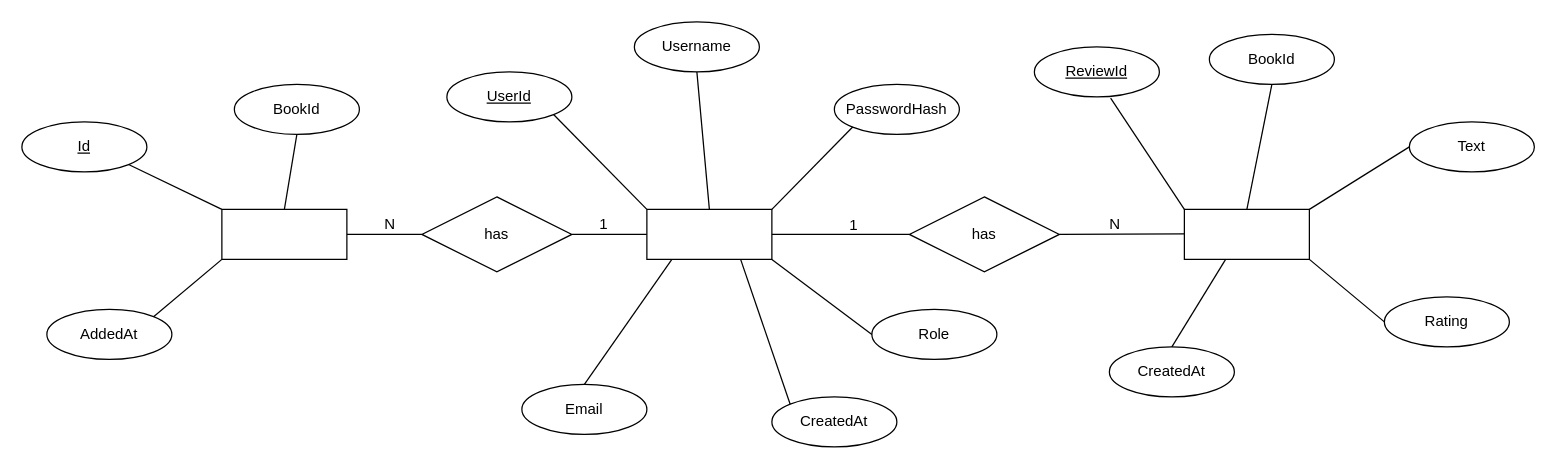
Some shapes in this 1556 by 469 pixel diagram are drawn without their labels. Here are the shapes that lost their labels. From the top down, the centre of each, then its label:
At (x=284, y=233): "Favorites".
At (x=709, y=233): "Users".
At (x=1246, y=233): "Reviews".
